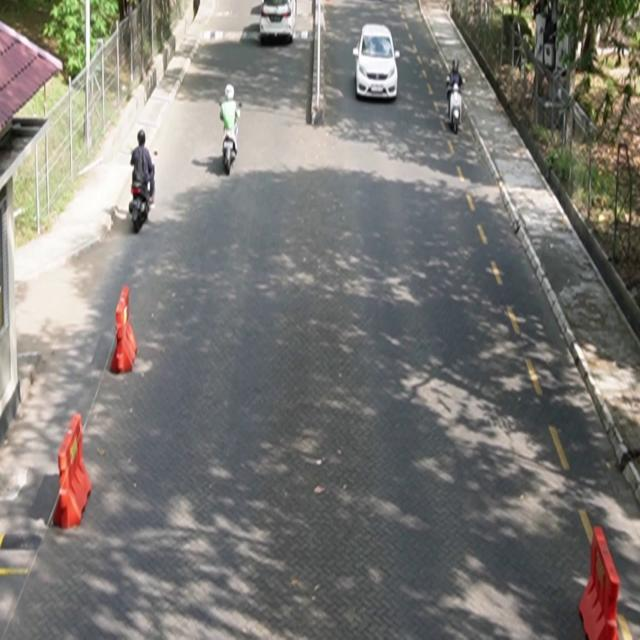car: (353, 24, 401, 102), (260, 1, 297, 44)
